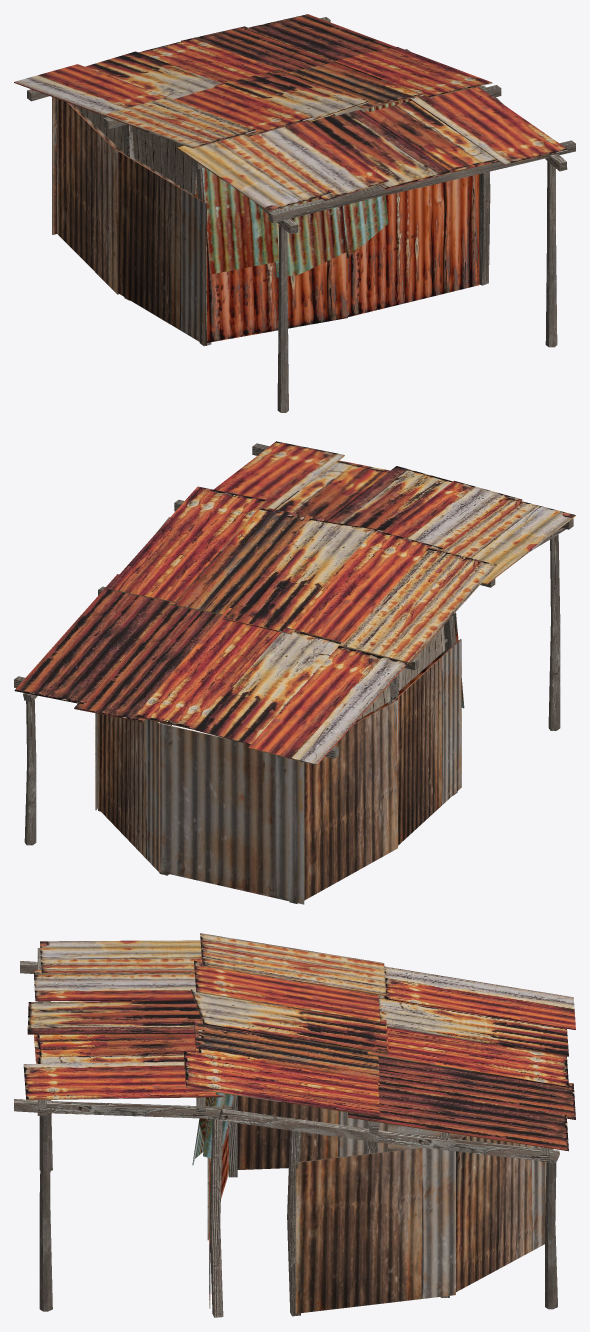
The model's file is poorhouse.glb.
The picture shows the model from 3 angles, top to bottom: view 1: azimuth 30°, elevation 25°; view 2: azimuth 150°, elevation 25°; view 3: azimuth 270°, elevation 25°; orthographic projection. The views are drawn at different scales.
Parts seen in each view (by area): view 1: Cube_0, Cube.002_2, Cube.003_3, Cube.001_1, Cube.041_41, Cube.037_37, Cube.007_7, Cube.039_39, Cube.038_38, Cube.016_16, Cube.040_40, Cube.020_20 (+17 smaller); view 2: Cube.004_4, Cube.003_3, Cube.002_2, Cube.021_21, Cube.020_20, Cube.016_16, Cube.025_25, Cube.005_5, Cube.018_18, Cube.023_23, Cube.022_22, Cube.017_17 (+10 smaller); view 3: Cube.006_6, Cube.005_5, Cube.020_20, Cube.025_25, Cube.021_21, Cube.041_41, Cube.016_16, Cube.018_18, Cube.039_39, Cube.024_24, Cube.023_23, Cube.002_2 (+16 smaller).
Boxes of the visible parts, box(x1,y1,x2,y2) form: Cube_0: box(348, 174, 479, 316); Cube.002_2: box(116, 149, 206, 345); Cube.003_3: box(57, 99, 118, 294); Cube.001_1: box(203, 194, 347, 342); Cube.041_41: box(410, 87, 567, 165); Cube.037_37: box(177, 134, 331, 211); Cube.007_7: box(201, 167, 278, 274); Cube.039_39: box(304, 110, 451, 189); Cube.038_38: box(252, 121, 388, 200); Cube.016_16: box(103, 97, 256, 148); Cube.040_40: box(363, 100, 498, 172); Cube.020_20: box(333, 47, 492, 97); Cube.004_4: box(160, 723, 304, 904); Cube.003_3: box(304, 699, 397, 900); Cube.002_2: box(392, 639, 461, 845); Cube.021_21: box(248, 642, 407, 765); Cube.020_20: box(107, 486, 266, 602); Cube.016_16: box(341, 548, 496, 663); Cube.025_25: box(14, 574, 170, 703); Cube.005_5: box(98, 713, 160, 872); Cube.018_18: box(223, 519, 383, 634); Cube.023_23: box(135, 607, 281, 729); Cube.022_22: box(195, 630, 340, 744); Cube.017_17: box(287, 530, 443, 642); Cube.006_6: box(295, 1147, 455, 1313); Cube.005_5: box(456, 1135, 553, 1291); Cube.020_20: box(183, 1051, 379, 1117); Cube.025_25: box(348, 1086, 568, 1151); Cube.021_21: box(378, 966, 575, 1029); Cube.041_41: box(23, 1061, 223, 1100); Cube.016_16: box(200, 933, 386, 995); Cube.018_18: box(191, 989, 388, 1054); Cube.039_39: box(27, 1000, 201, 1034); Cube.024_24: box(378, 1056, 575, 1119); Cube.023_23: box(367, 1027, 568, 1087); Cube.002_2: box(237, 1095, 387, 1169).
Bounding box in the file's own units: 4.18 × 2.78 × 6.14.
Materials: 3 (3 with a texture image).
